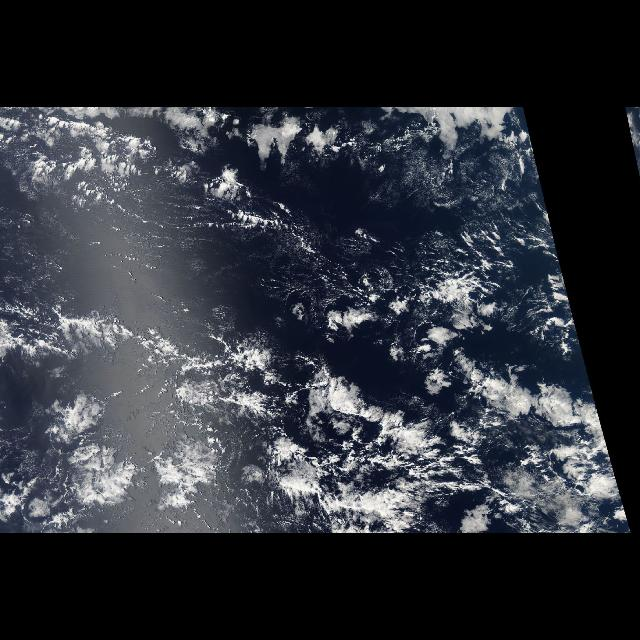Fish: (13, 251, 449, 533)
